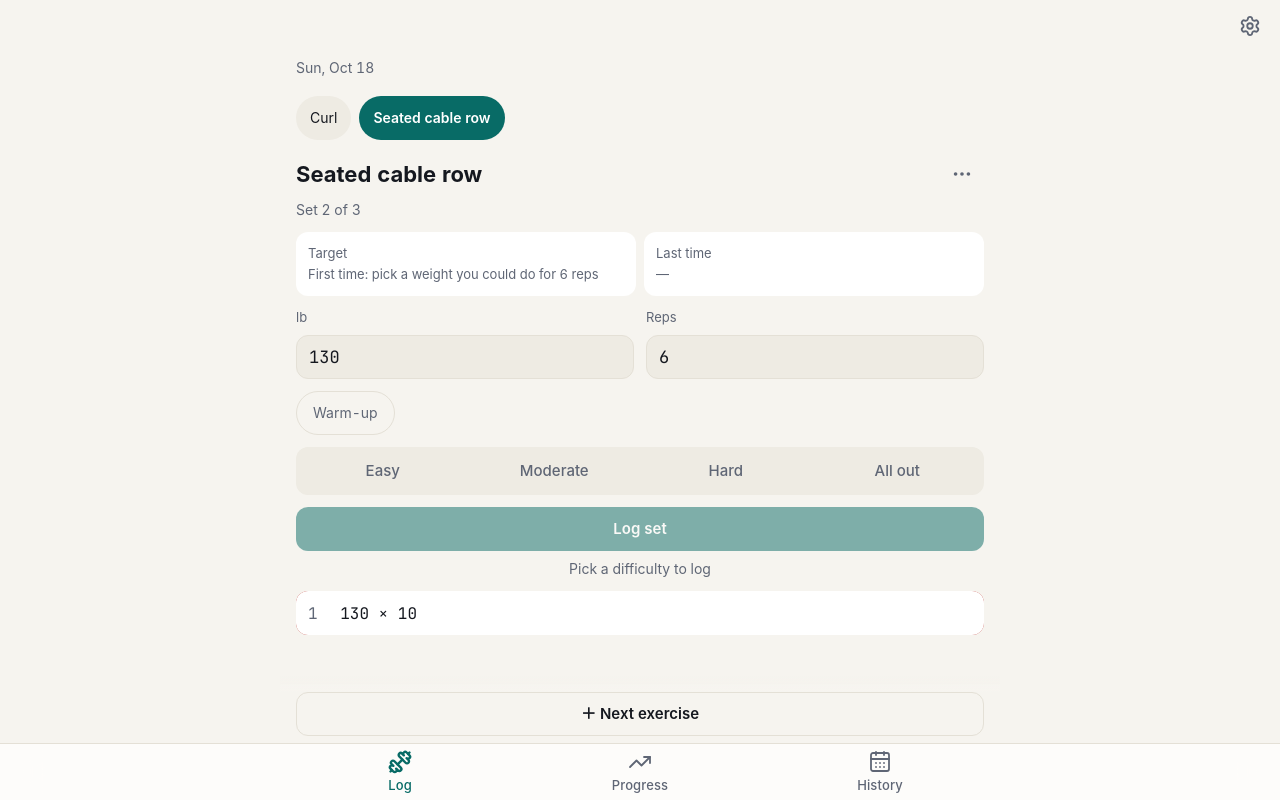
Test case: log screen › chips switch the current exercise
The width and height of the screenshot is (1280, 800).
Expected: the heading "Seated cable row" is shown, [296, 161, 482, 187]
Click the button "Curl". click: click(324, 118)
box: [296, 96, 351, 140]
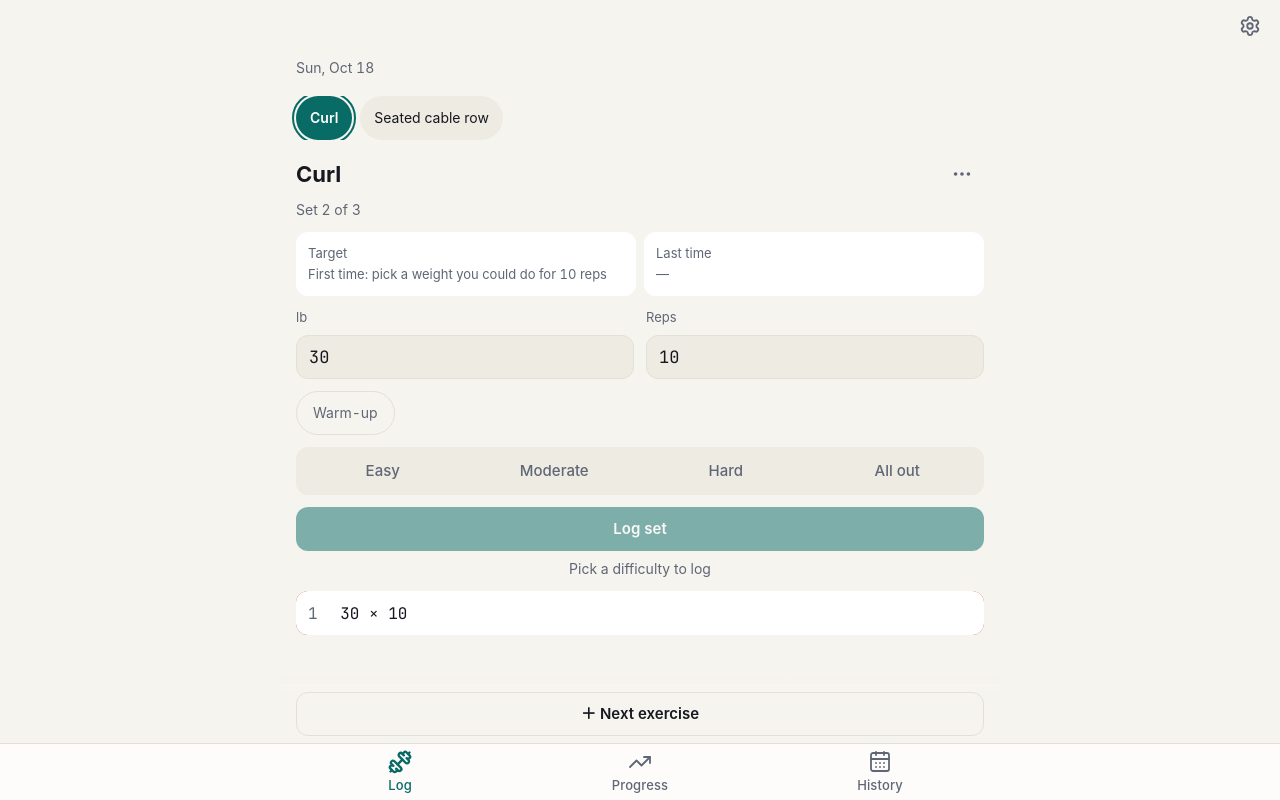
Expected: the text "Set 2 of 3" is shown, [296, 201, 361, 218]
Expected: the heading "Curl" is shown, [296, 161, 341, 187]
